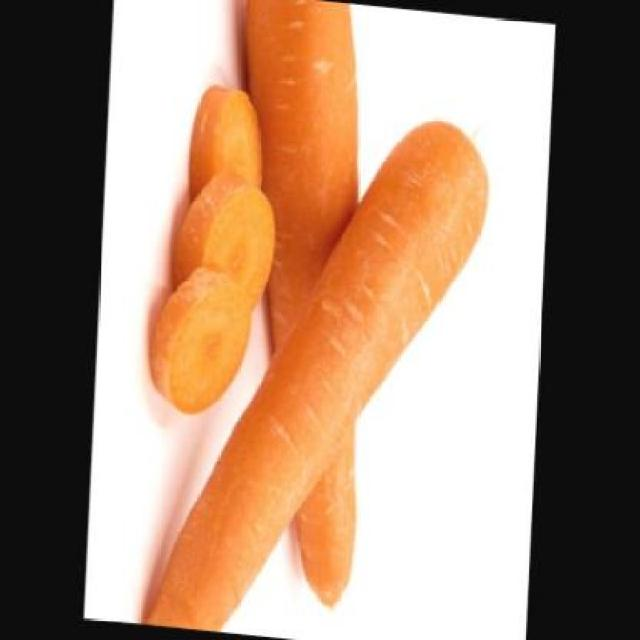carrot: (143, 90, 494, 638), (215, 0, 384, 612)
